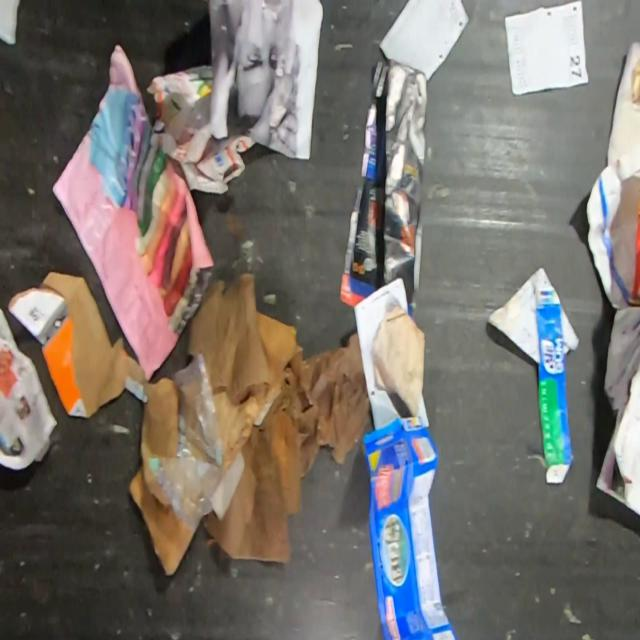cardboard: (127, 271, 371, 578), (362, 416, 457, 638), (8, 270, 145, 418), (534, 285, 574, 486), (370, 300, 426, 419)
